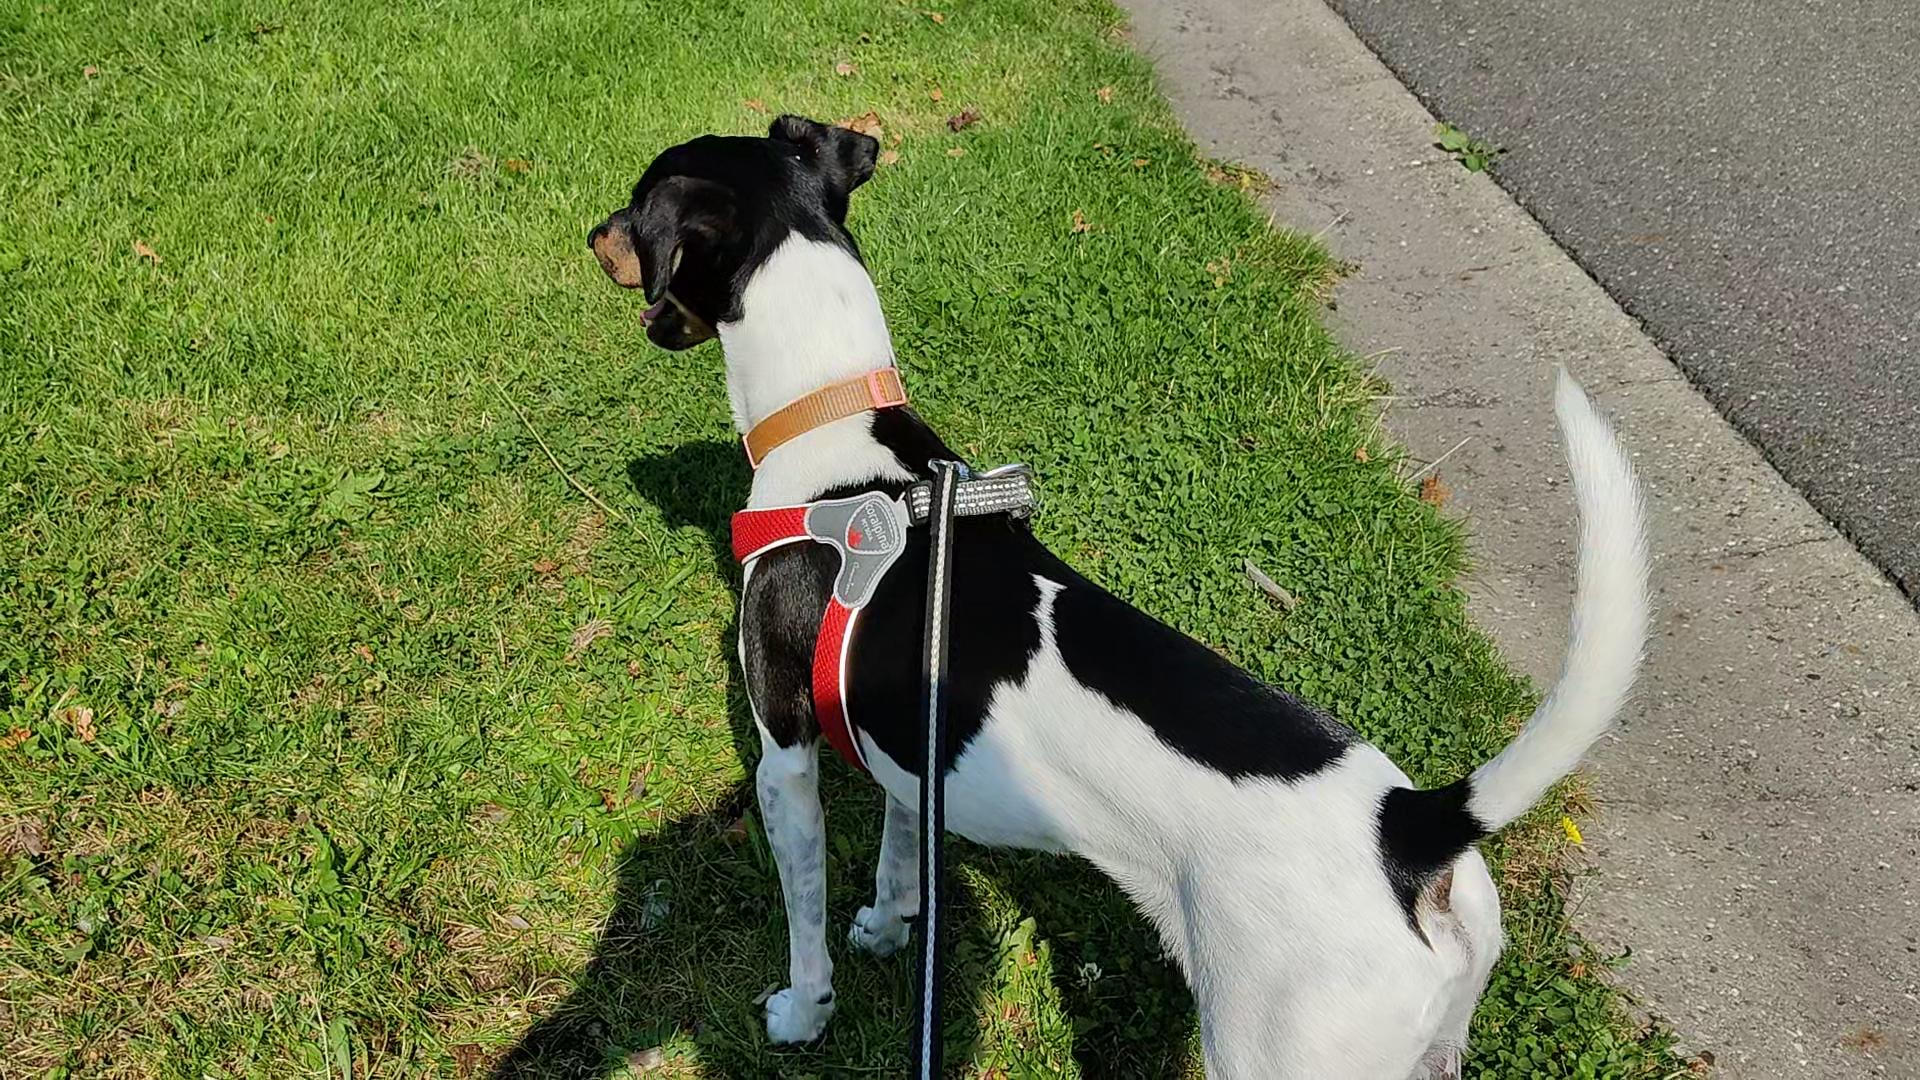Dog: (570, 103, 1664, 1079)
